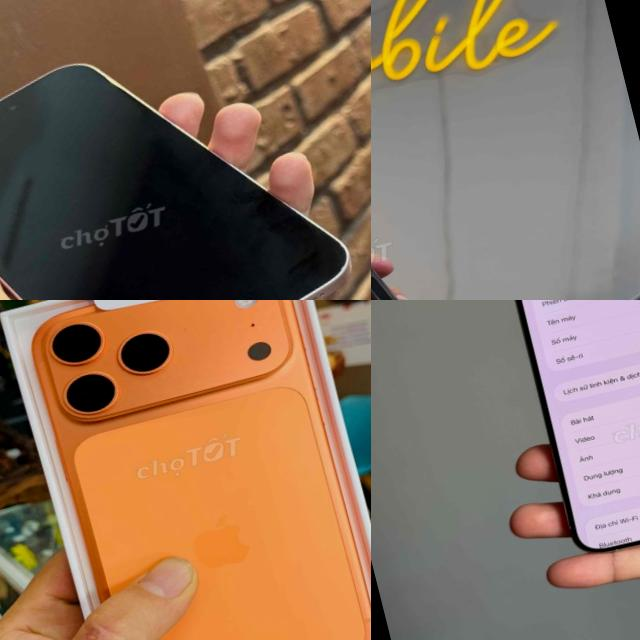gen_12_13: (371, 90, 468, 300)
gen_15: (0, 0, 371, 300), (487, 300, 640, 576)
gen_17: (0, 300, 371, 640)
